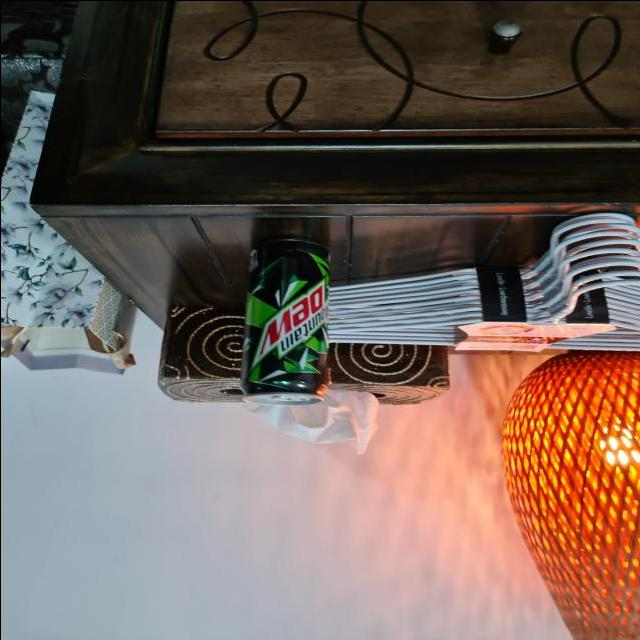can: (230, 225, 340, 412)
